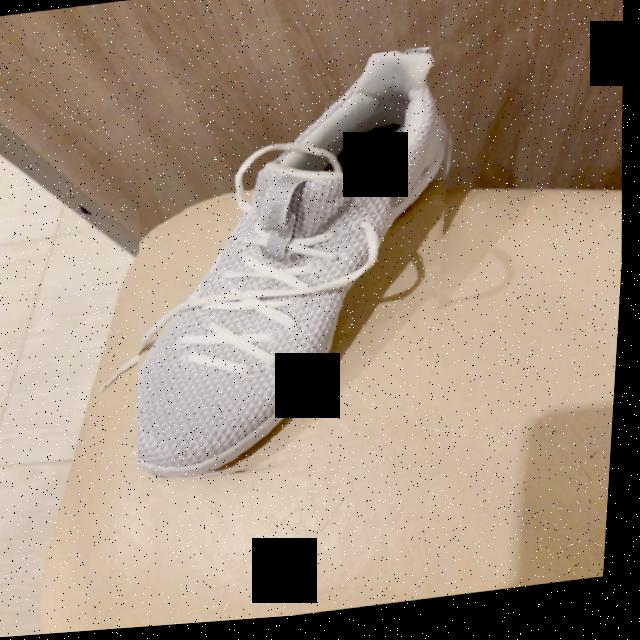shoe: (143, 54, 452, 484)
